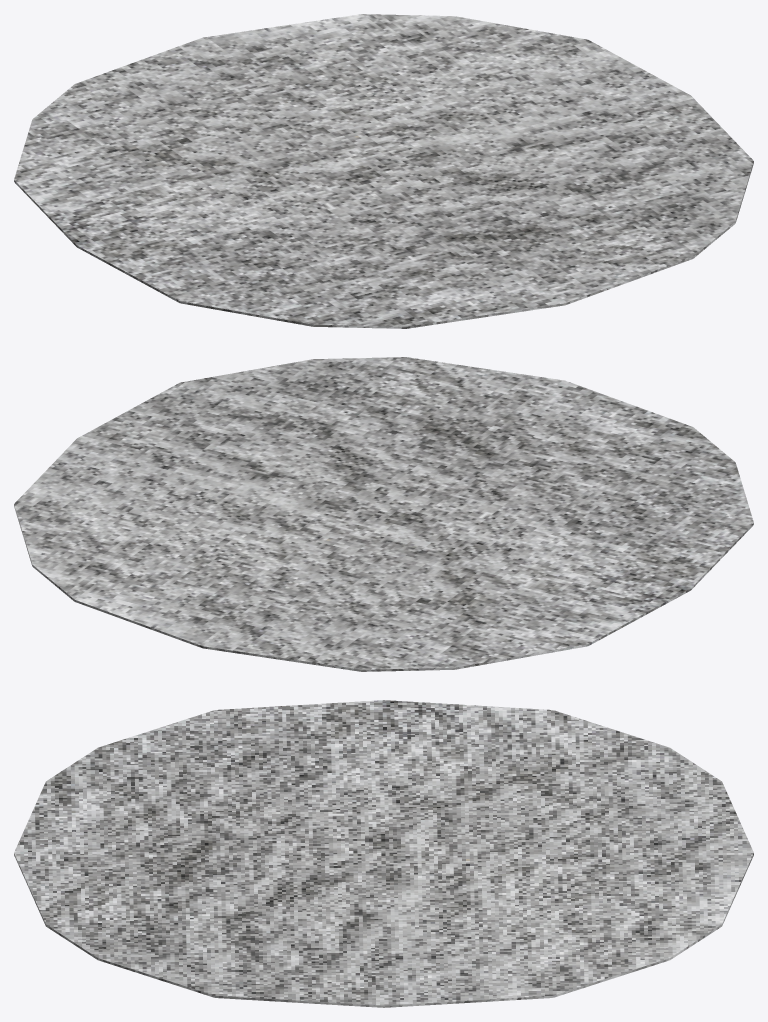
The model's file is Alfombra.fbx.
The picture shows the model from 3 angles, top to bottom: view 1: azimuth 30°, elevation 25°; view 2: azimuth 150°, elevation 25°; view 3: azimuth 270°, elevation 25°; orthographic projection.
Visible parts, largest first — view 1: pCube3; view 2: pCube3; view 3: pCube3.
Part boxes in pixels (x1=…): pCube3: x1=14, y1=14, x2=753, y2=328; pCube3: x1=14, y1=357, x2=753, y2=671; pCube3: x1=14, y1=700, x2=753, y2=1007.
Bounding box in the file's own units: 585 × 1.95 × 598.
